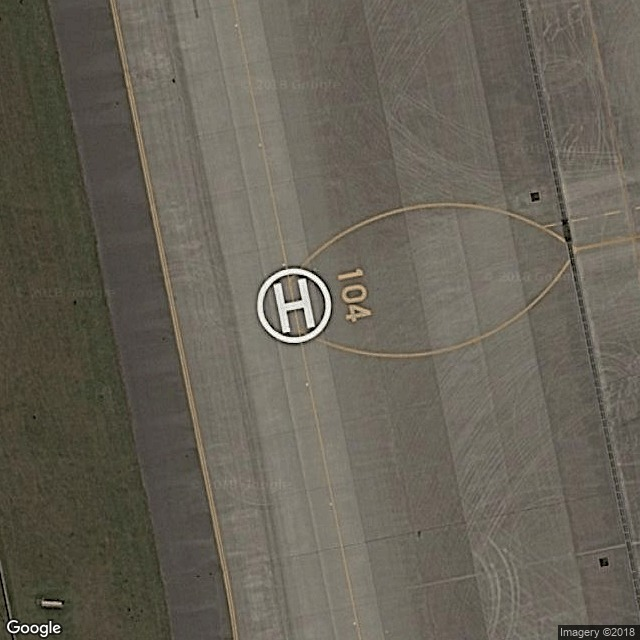heliport: (271, 277, 317, 334)
